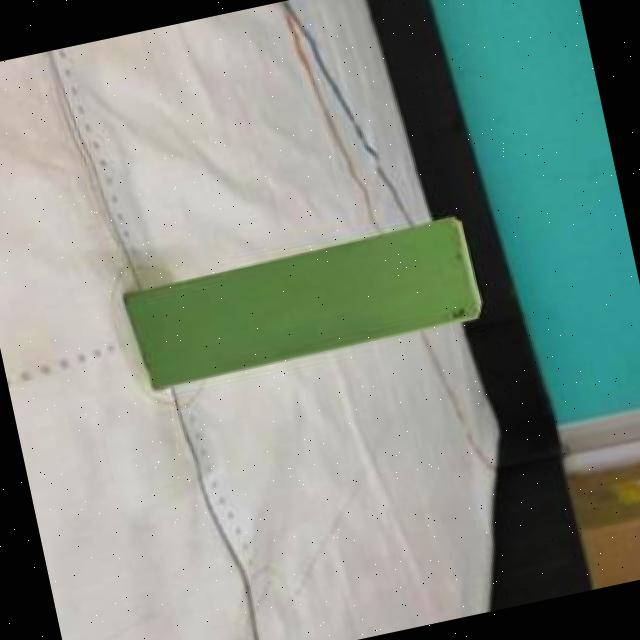greenbox: (118, 214, 483, 390)
